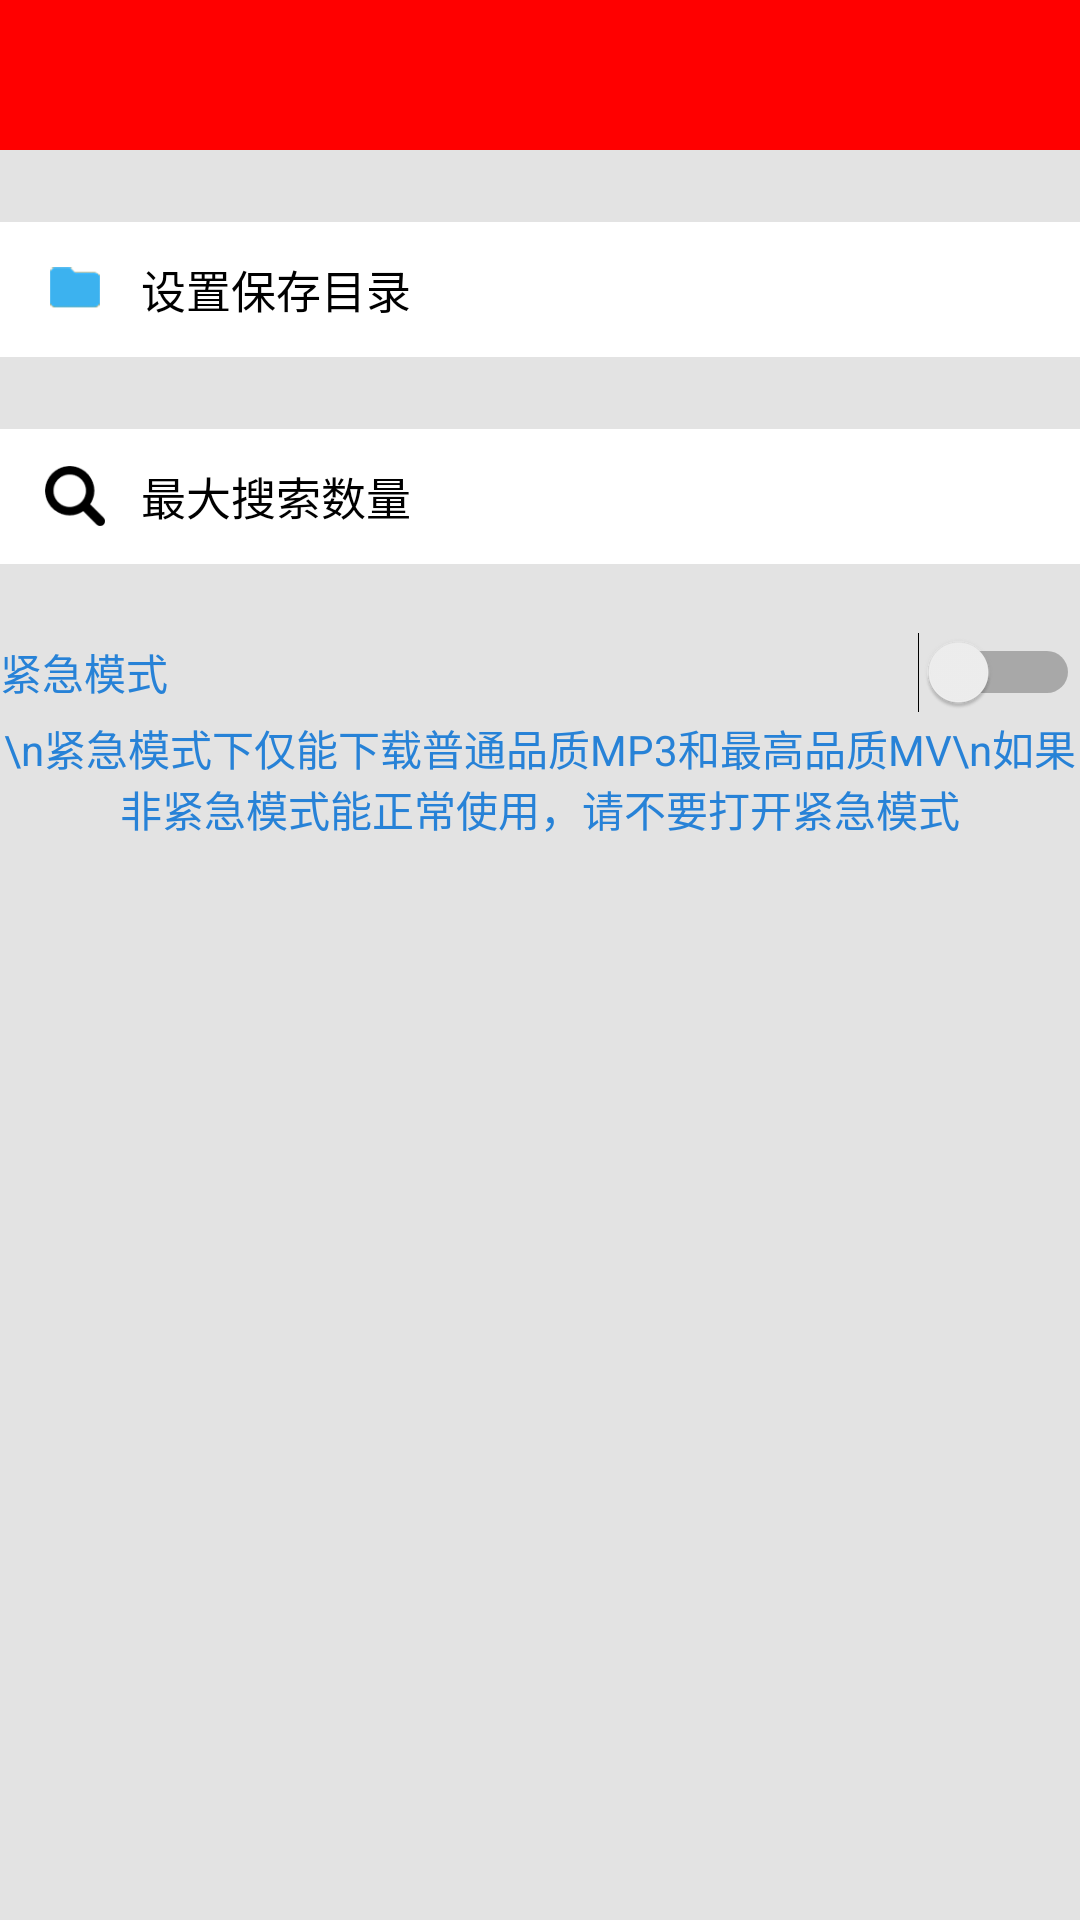

Icons on this 1080x1920 Android screen, each with the point to tap as point (x, y):
files: point (75, 287)
search: point (75, 496)
